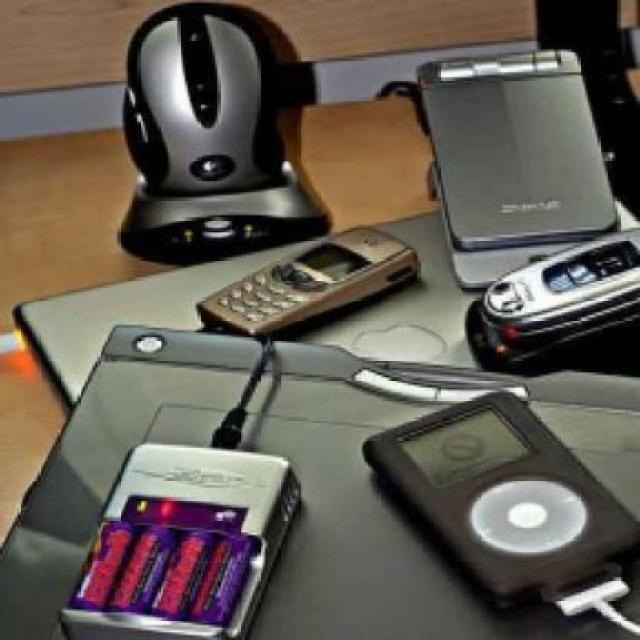mause: (122, 7, 362, 242)
